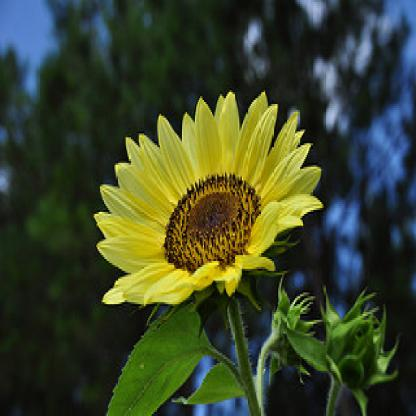SUN FLOWER: (60, 44, 342, 333)
